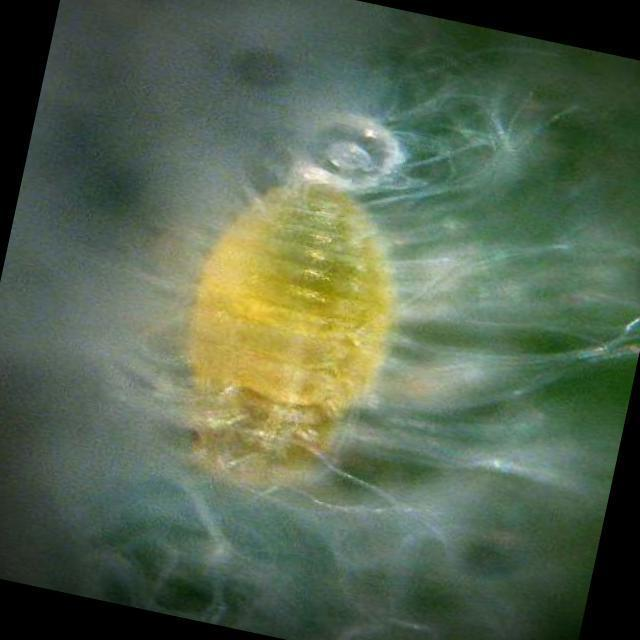aphid: (95, 102, 519, 620)
